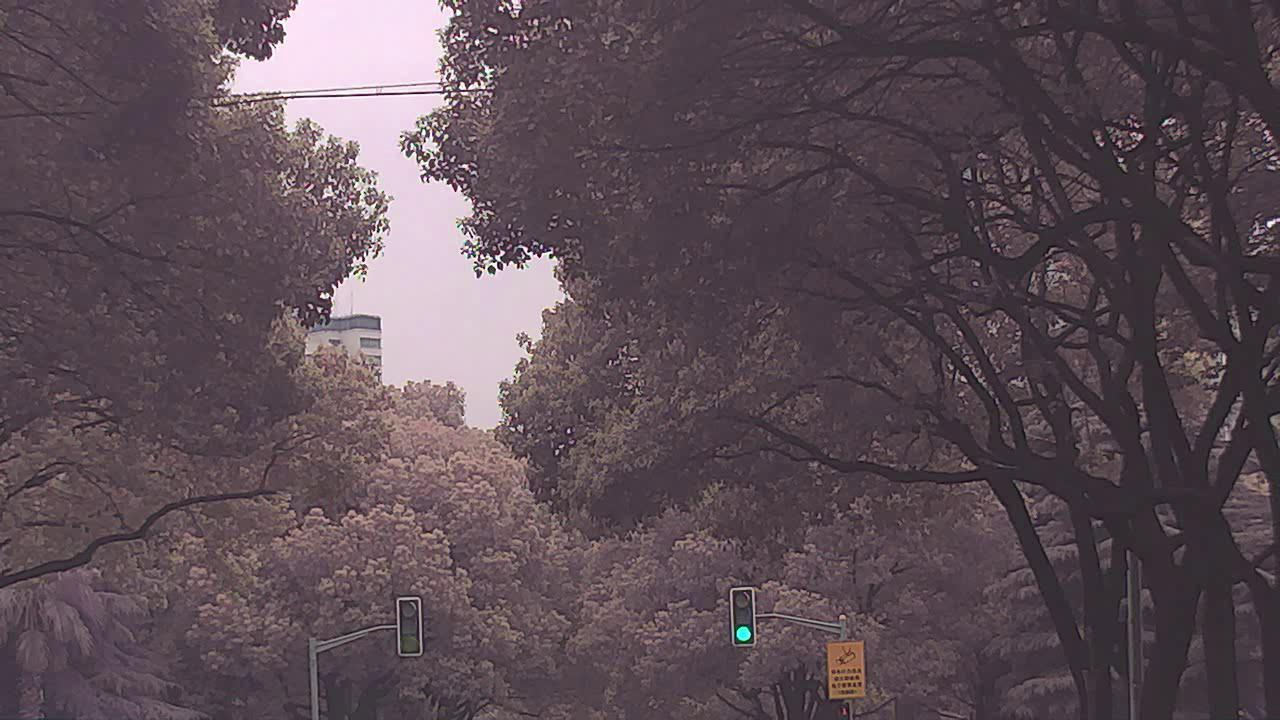traffic_light: (392, 597, 421, 656), (730, 592, 756, 646)
